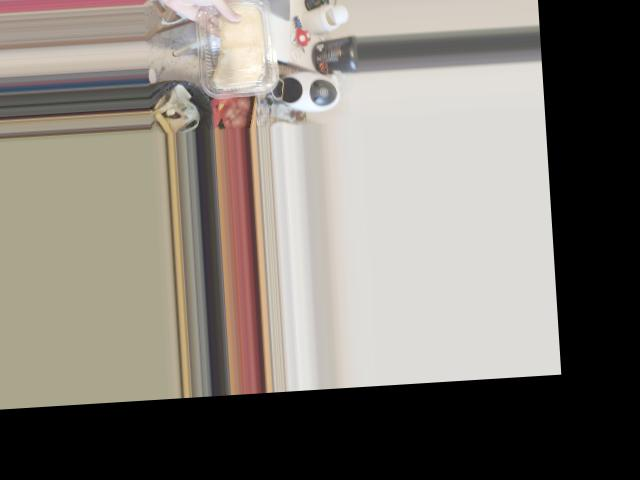cheese: (190, 0, 286, 91)
